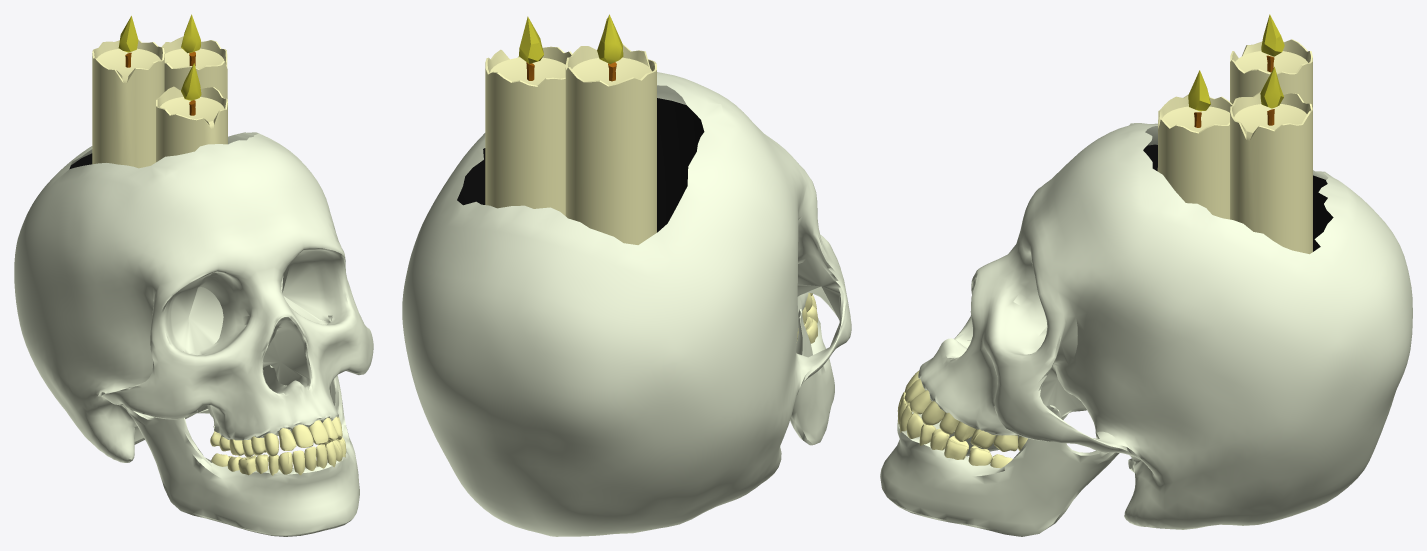
Rendered from SkullLamp.fbx.
The picture shows the model from 3 angles, left to right: view 1: azimuth 30°, elevation 25°; view 2: azimuth 150°, elevation 25°; view 3: azimuth 270°, elevation 25°; orthographic projection. The views are drawn at different scales.
Parts seen in each view (by area): view 1: skull_sketchfab_lowerThirdMolar_l; view 2: skull_sketchfab_lowerThirdMolar_l; view 3: skull_sketchfab_lowerThirdMolar_l.
Part boxes in pixels (<box>): skull_sketchfab_lowerThirdMolar_l: <box>14,14,373,536</box>; skull_sketchfab_lowerThirdMolar_l: <box>402,14,851,536</box>; skull_sketchfab_lowerThirdMolar_l: <box>880,14,1412,536</box>.
Size of the model in its own units: 300 by 440 by 454.
